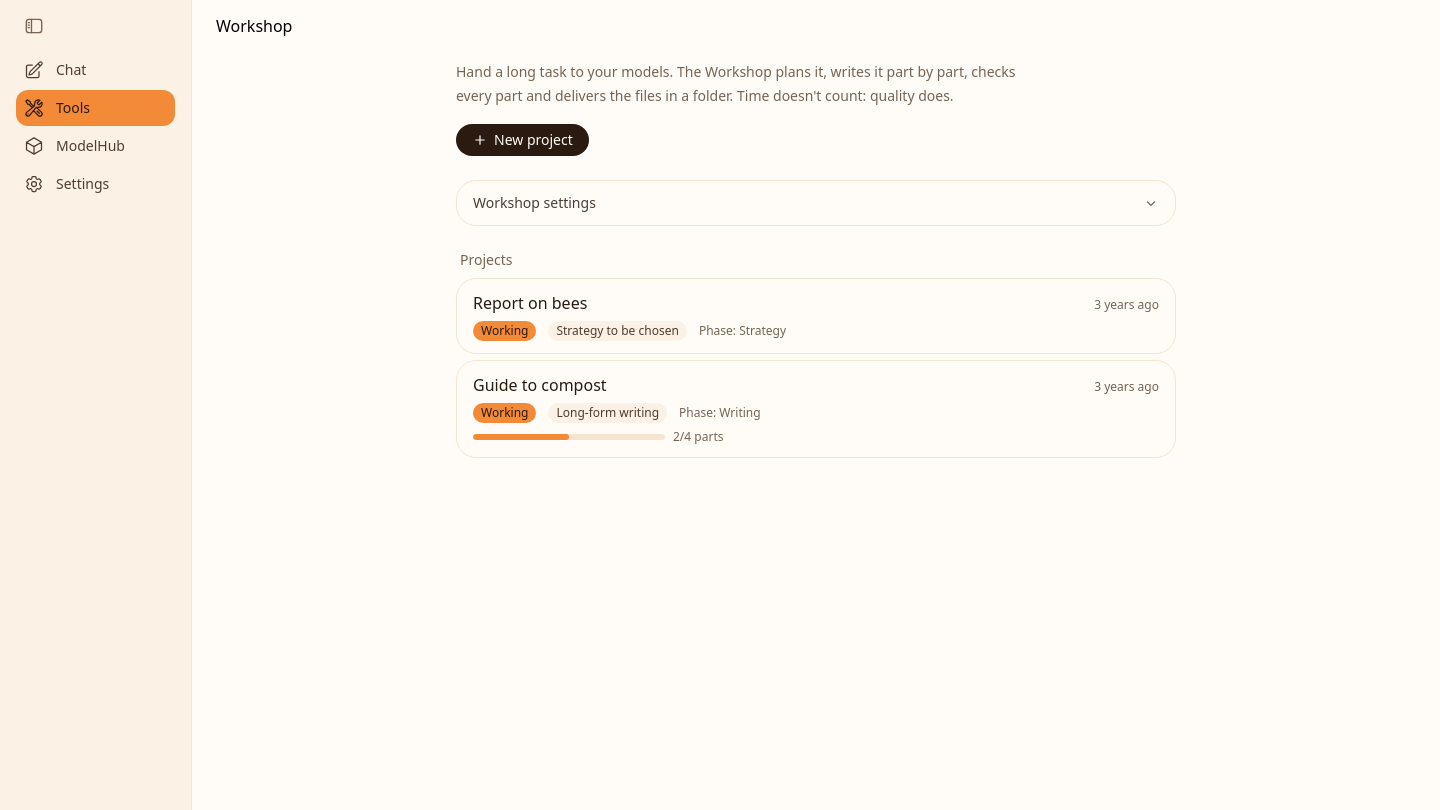
Test case: Workshop home › lists the projects, newest first, with their state, strategy, phase, queue position and parts
Click the link "Guide to compost": click(540, 385) [457,361,1175,457]
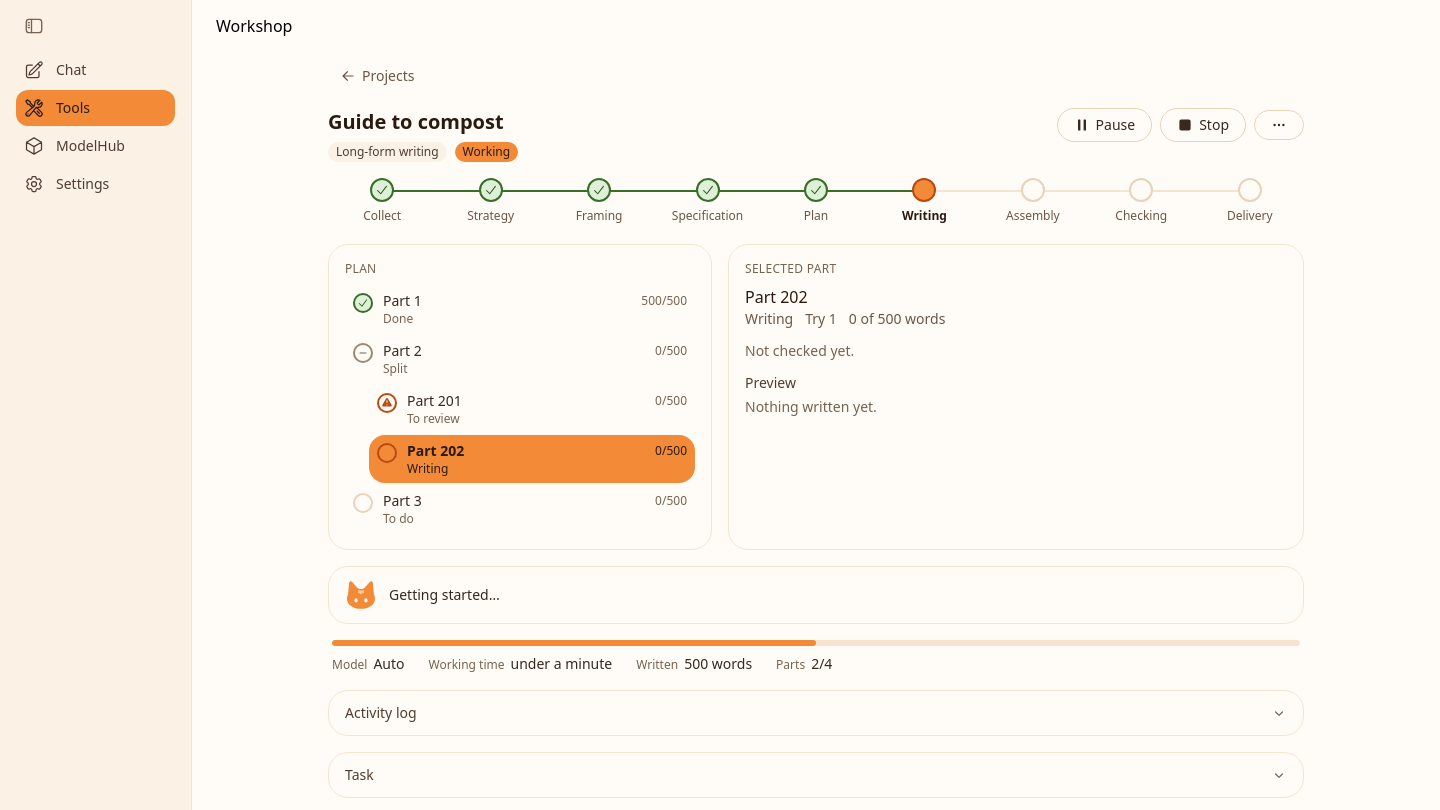
Check: the element with test id "workshop-project-view" is shown, box [328,108,1304,798]
